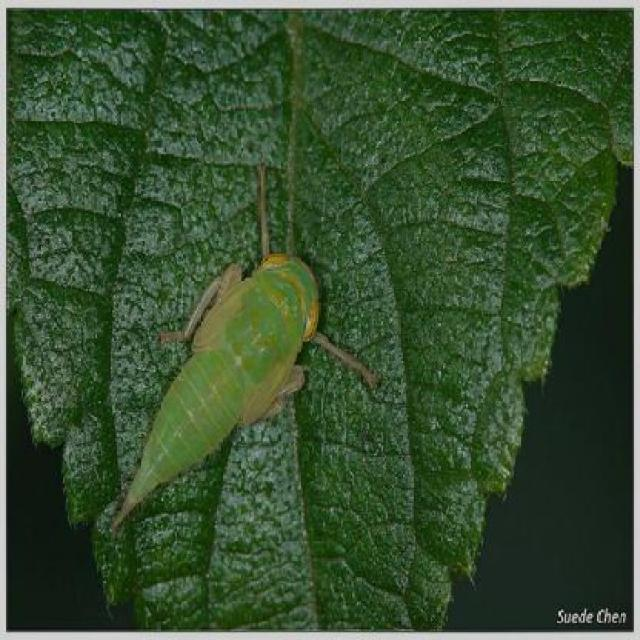green-leafhopper: (116, 240, 327, 529)
